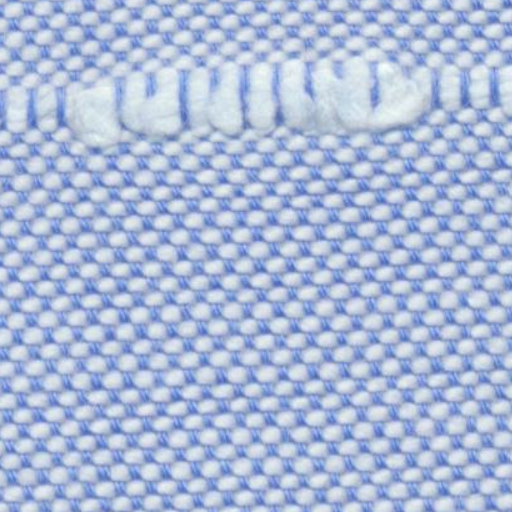DaiSha: (10, 52, 497, 151)
